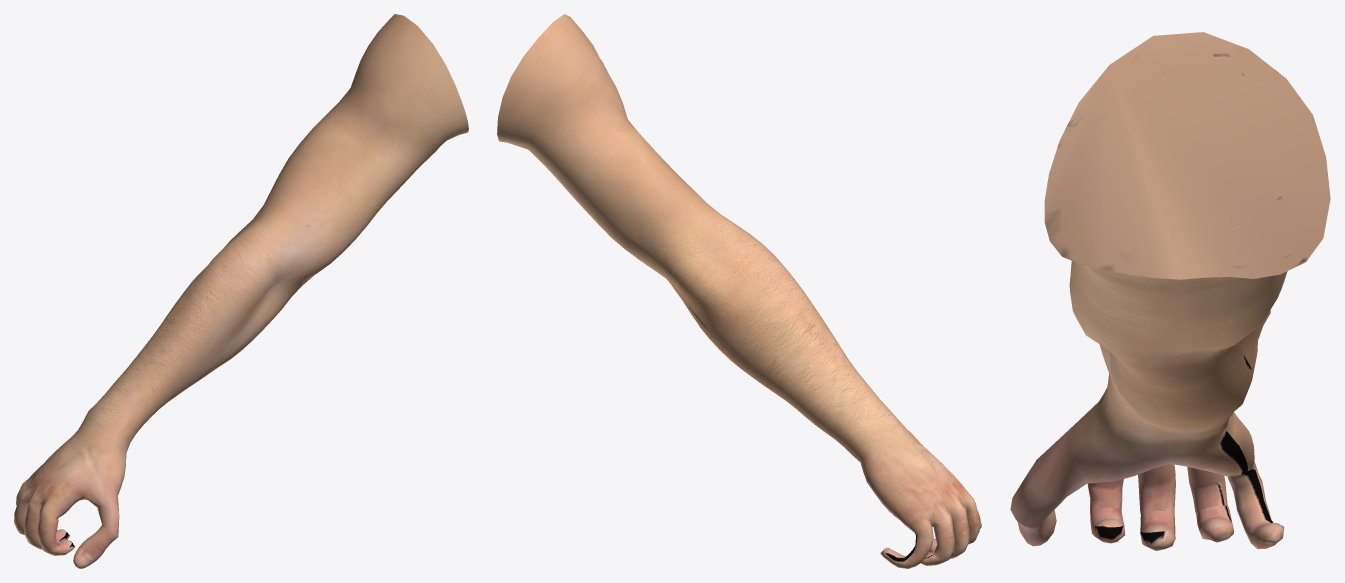
Rendered from manArm.fbx.
The picture shows the model from 3 angles, left to right: view 1: azimuth 30°, elevation 25°; view 2: azimuth 150°, elevation 25°; view 3: azimuth 270°, elevation 25°; orthographic projection. The views are drawn at different scales.
Parts seen in each view (by area): view 1: manArm; view 2: manArm; view 3: manArm.
Part boxes in pixels (box(x1,y1,x2,y2)): manArm: box(14, 14, 468, 568); manArm: box(497, 14, 981, 568); manArm: box(1010, 32, 1330, 550).
Size of the model in its own units: 52.29 by 51.09 by 16.99.
1 material, 1 textured.
